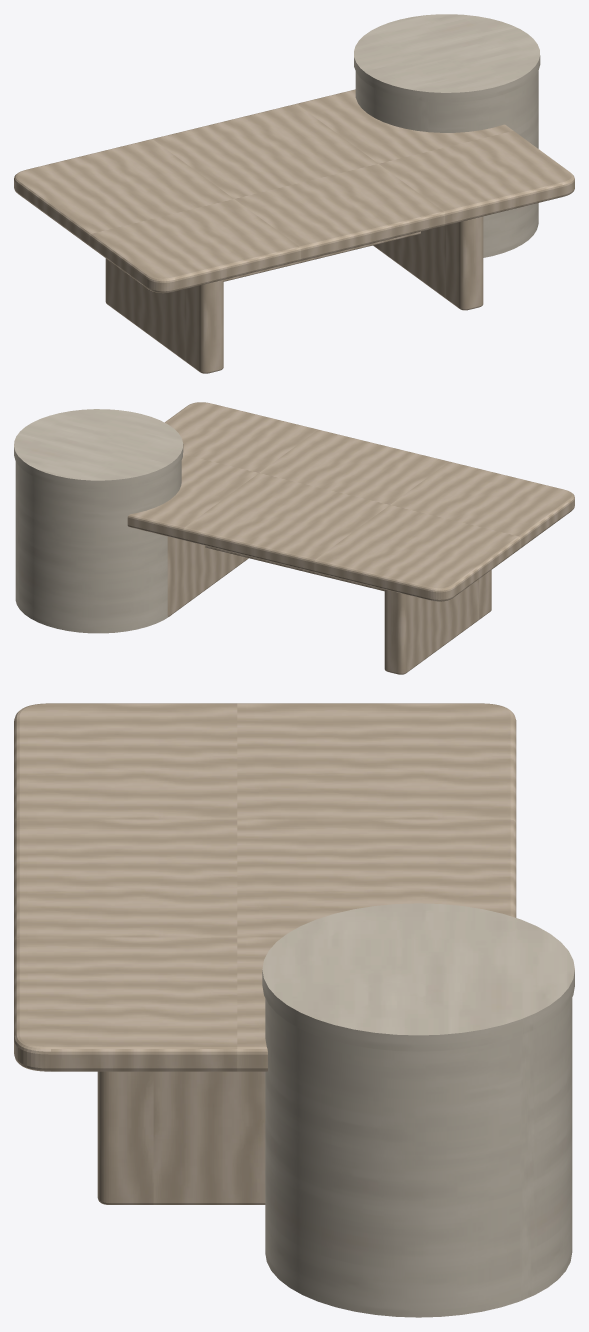
File: kowhai-hero-liv-03.glb
3 views of the same model, one above another, from view 1: azimuth 30°, elevation 25°; view 2: azimuth 150°, elevation 25°; view 3: azimuth 270°, elevation 25° (orthographic). The views are drawn at different scales.
Parts seen in each view (by area): view 1: SubPart (×6); view 2: SubPart (×6); view 3: SubPart (×4).
Boxes of the visible parts, x1,y1,x2,y2 form: SubPart (×6): (14, 14, 574, 373); SubPart (×6): (14, 402, 574, 674); SubPart (×4): (14, 703, 574, 1317).
Size of the model in its own units: 1.36 by 0.448 by 0.804.
2 materials, 2 textured.
